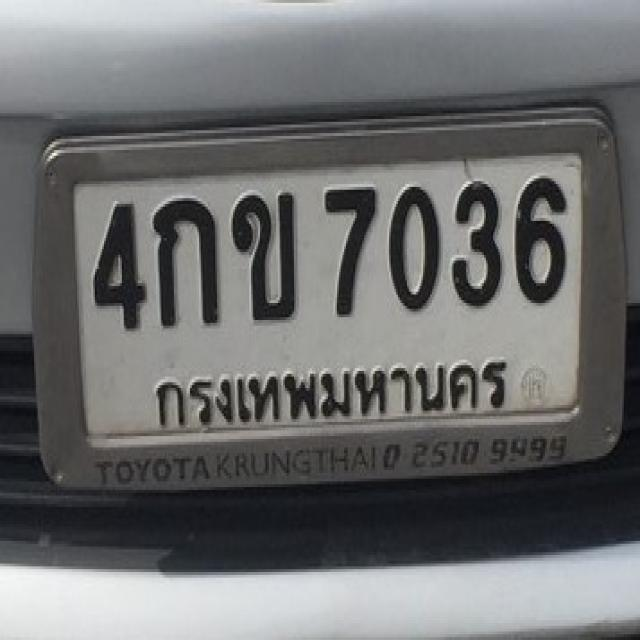license_plate: (23, 99, 640, 507)
